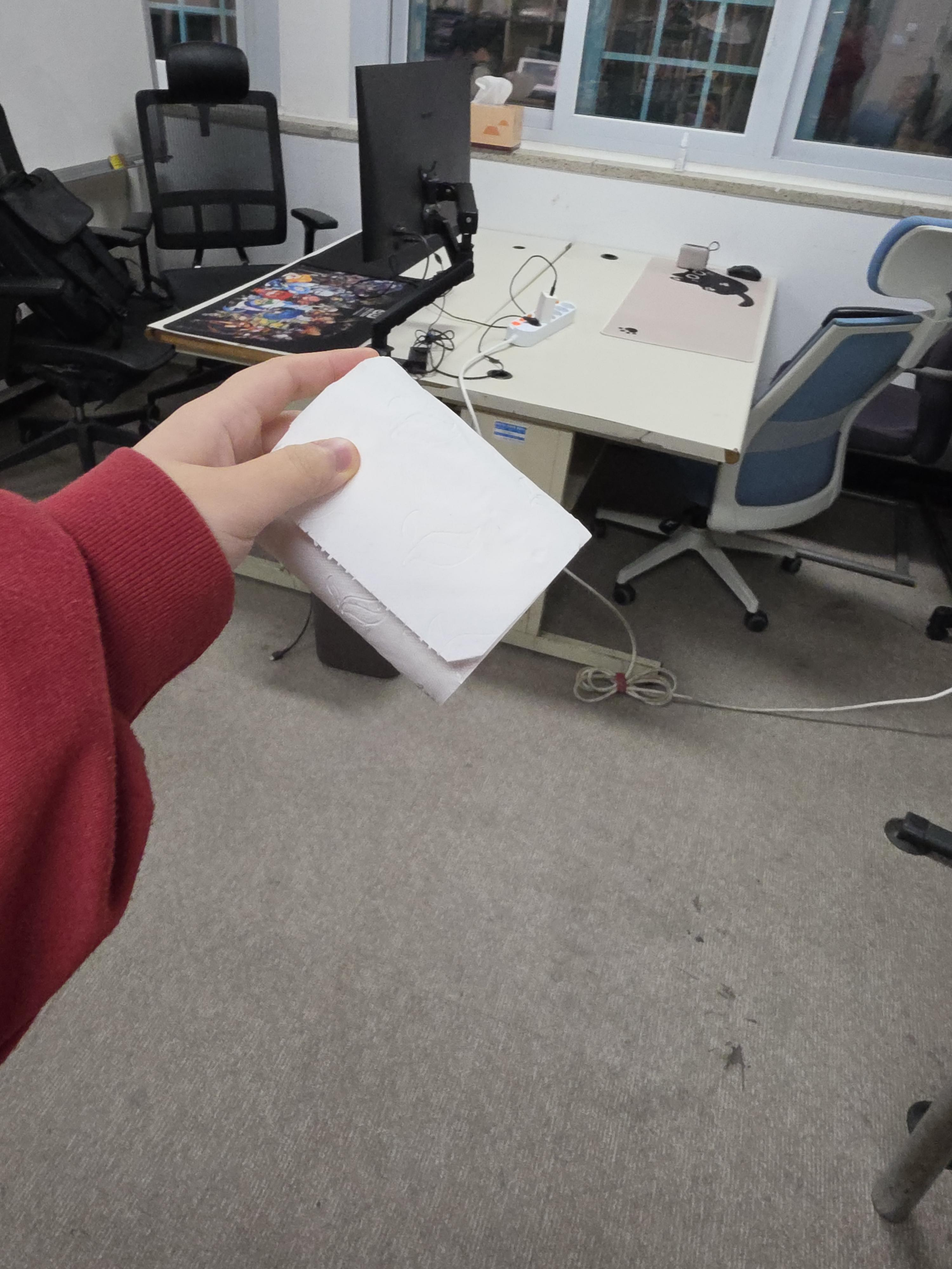tissue: (272, 356, 592, 705), (470, 75, 522, 151)
